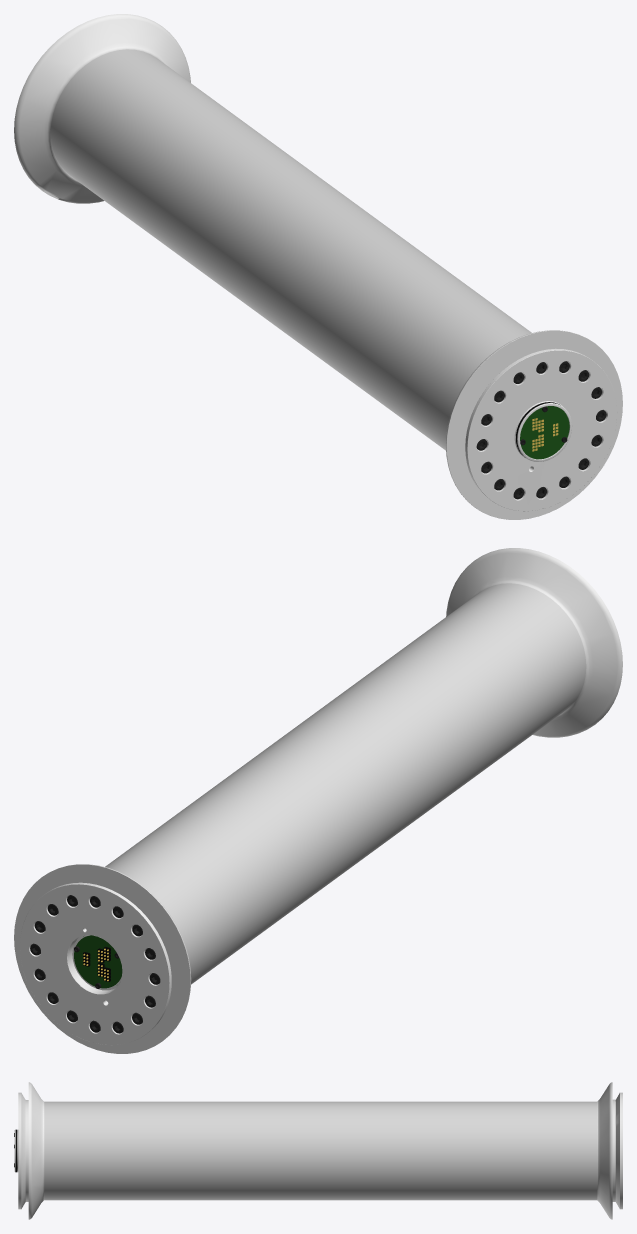
3 renders of one model, top to bottom at view 1: azimuth 30°, elevation 25°; view 2: azimuth 150°, elevation 25°; view 3: azimuth 270°, elevation 25°, orthographic. The views are drawn at different scales.
Parts seen in each view (by area): view 1: I148.001; view 2: I148.001; view 3: I148.001.
Part boxes in pixels (left/top/right/bottom): I148.001: left=14, top=14, right=622, bottom=519; I148.001: left=14, top=548, right=622, bottom=1053; I148.001: left=14, top=1082, right=622, bottom=1219.
Size of the model in its own units: 0.148 by 0.1477 by 0.6546.
